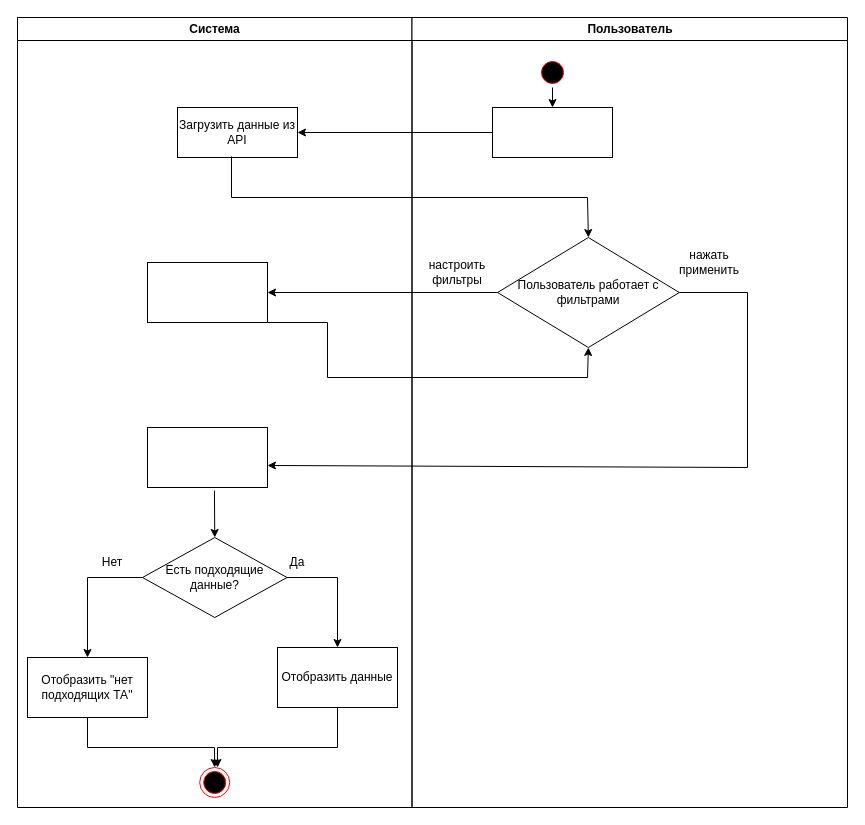
The diagram is 865 pixels wide and 825 high, and some of its shapes have lost their labels. The box of each missing label's shape, as (x1, y1, x2, y2) in pixels:
Обновить вид фильтров: (146, 262, 268, 322)
Открыть страницу: (492, 106, 612, 158)
Фильтровать данные из API: (146, 426, 268, 488)
